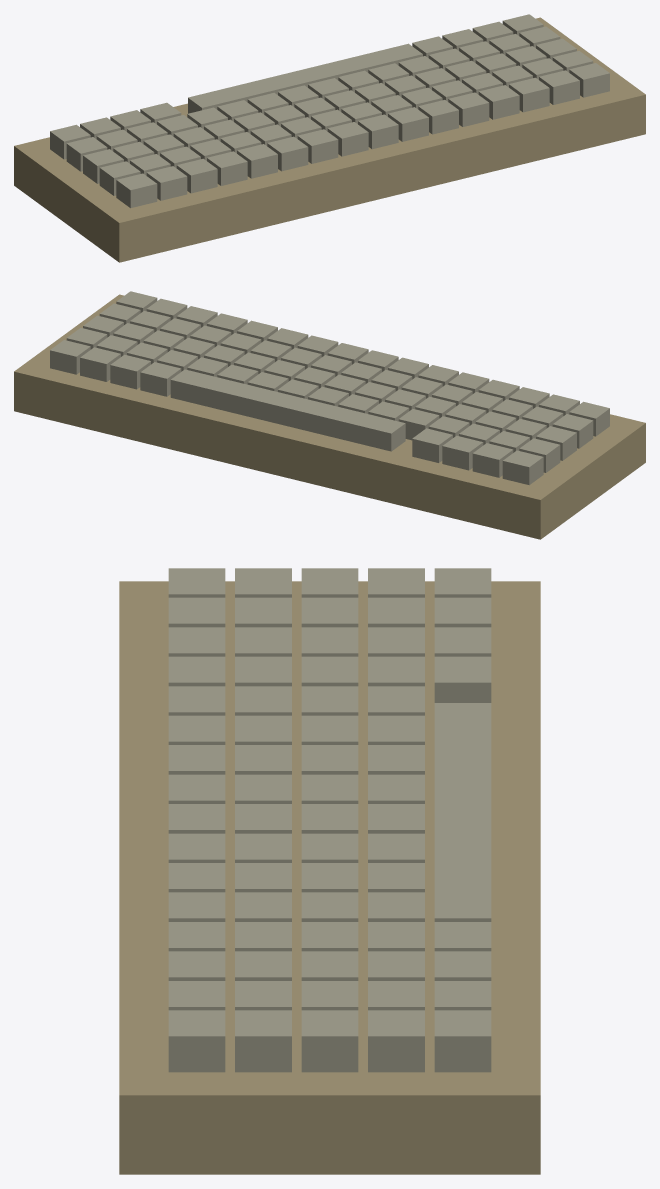
File: keyboard.obj
3 views of the same model, one above another, from view 1: azimuth 30°, elevation 25°; view 2: azimuth 150°, elevation 25°; view 3: azimuth 270°, elevation 25° (orthographic). The views are drawn at different scales.
Visible parts, largest first — view 1: keys, keyboard_body, spacebar; view 2: keys, keyboard_body, spacebar; view 3: keys, keyboard_body, spacebar.
Part boxes in pixels (x1,y1,x2,y2): keys: (50,14,609,208); keyboard_body: (14,17,645,262); spacebar: (188,48,405,113); keys: (50,291,609,485); keyboard_body: (14,294,645,539); spacebar: (188,376,405,451); keys: (168,568,491,1072); keyboard_body: (119,581,540,1174); spacebar: (434,703,491,901).
Size of the model in its own units: 0.75 by 0.0785 by 0.26.
